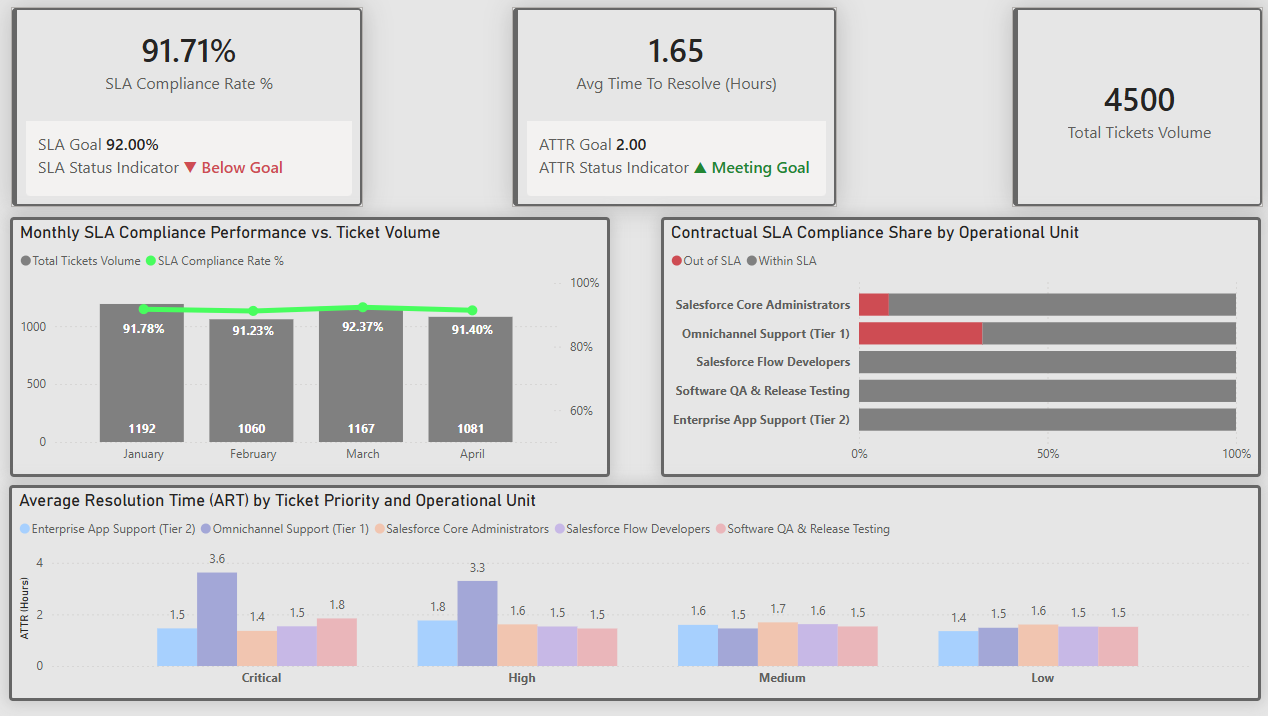

The dashboard page shown, as its layout file describes it:
{"tool":"powerbi","page":{"name":"SLA & Contract Compliance","canvas":[1280,720],"ordinal":0},"visuals":[{"type":"group","id":"g1","title":"Group 1","box":[13.9,7.8,1252.2,200.2],"z":0},{"type":"cardVisual","fields":{"Data":["_Measures.SLA Compliance Rate %"]},"box":[13.9,7.8,352.2,199.8],"z":0,"group":"g1"},{"type":"cardVisual","fields":{"Data":["_Measures.Avg Resolution Time"]},"box":[514.8,8,325,200],"z":1000,"group":"g1"},{"type":"group","id":"g2","title":"Group 2","box":[12.8,218,1251.1,260],"z":1000,"group":"g3"},{"type":"lineStackedColumnComboChart","title":"Monthly SLA Compliance Performance vs. Ticket Volume","fields":{"Category":["fact_tickets.Date_Created.Variation.Date Hierarchy.Month"],"Y2":["_Measures.SLA Compliance Rate %"],"Y":["_Measures.Total Tickets Volume"]},"box":[12.8,218,600,260],"z":1000,"group":"g2"},{"type":"cardVisual","fields":{"Data":["_Measures.Total Tickets Volume"]},"box":[1015.2,7.8,250.9,200],"z":2000,"group":"g1"},{"type":"hundredPercentStackedBarChart","title":"Contractual SLA Compliance Share by Operational Unit","fields":{"Category":["dim_units.Unit_Name"],"Series":["fact_tickets.SLA_Status"],"Y":["CountNonNull(fact_tickets.Ticket_ID)"]},"box":[663.9,218,600,260],"z":2000,"group":"g2"},{"type":"clusteredColumnChart","title":"Average Resolution Time (ART) by Ticket Priority and Operational Unit","fields":{"Category":["fact_tickets.Priority"],"Y":["Avg(fact_tickets.Resolution_Time_Hours)"],"Series":["dim_units.Unit_Name"]},"box":[12,485.8,1252.2,216.7],"z":2000,"group":"g3"},{"type":"group","id":"g3","title":"Group 3","box":[12,218,1252.2,484.4],"z":2001}]}

Visuals, with their boxes in screenshot pixels (x1, y1, x2, y2), scaled from the page's 1280x720 canvas onto the 1268x716 screenshot:
"Group 1" group: <box>14,8,1254,207</box>
cardVisual - _Measures.SLA Compliance Rate %: <box>14,8,363,206</box>
cardVisual - _Measures.Avg Resolution Time: <box>510,8,832,207</box>
"Group 2" group: <box>13,217,1252,475</box>
"Monthly SLA Compliance Performance vs. Ticket Volume" lineStackedColumnComboChart: <box>13,217,607,475</box>
cardVisual - _Measures.Total Tickets Volume: <box>1006,8,1254,207</box>
"Contractual SLA Compliance Share by Operational Unit" hundredPercentStackedBarChart: <box>658,217,1252,475</box>
"Average Resolution Time (ART) by Ticket Priority and Operational Unit" clusteredColumnChart: <box>12,483,1252,699</box>
"Group 3" group: <box>12,217,1252,698</box>
